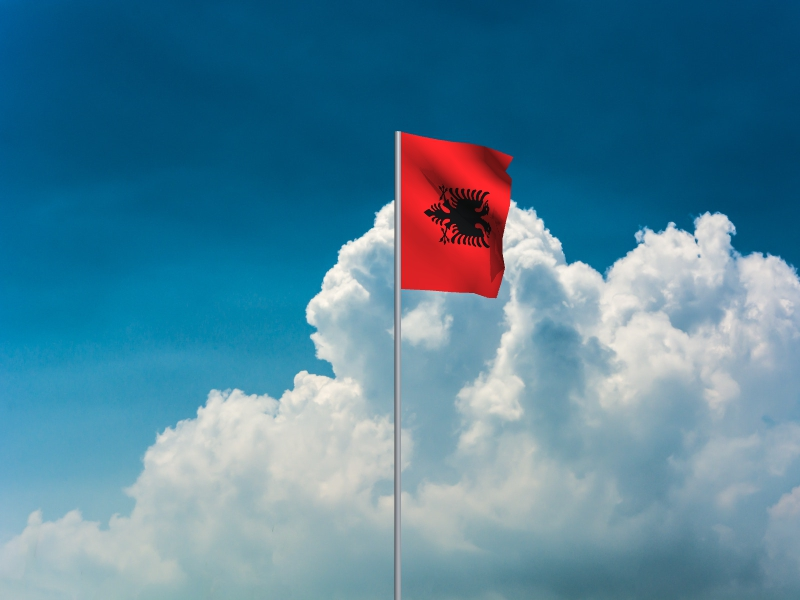al: (402, 133, 515, 300)
